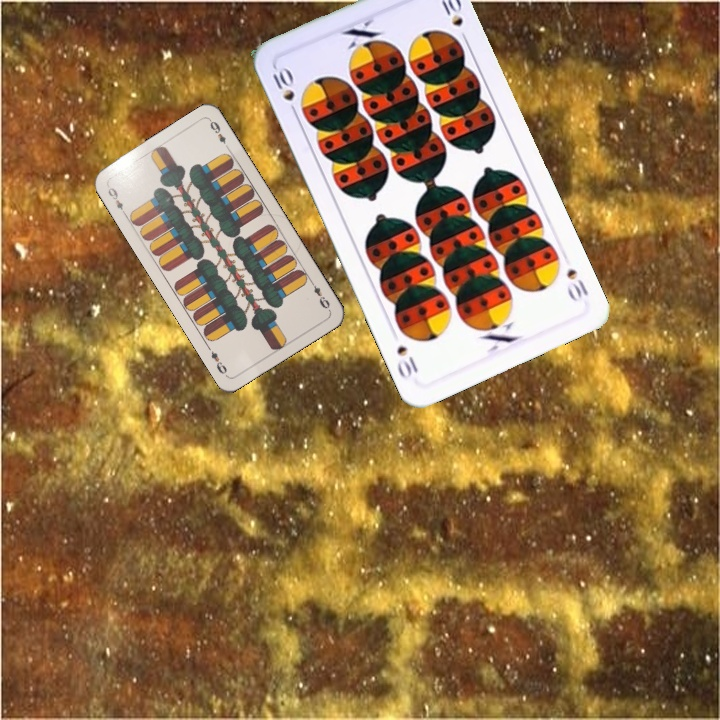E9: (306, 276, 333, 313), (104, 183, 129, 218)
S10: (268, 63, 301, 119), (562, 264, 591, 305)
